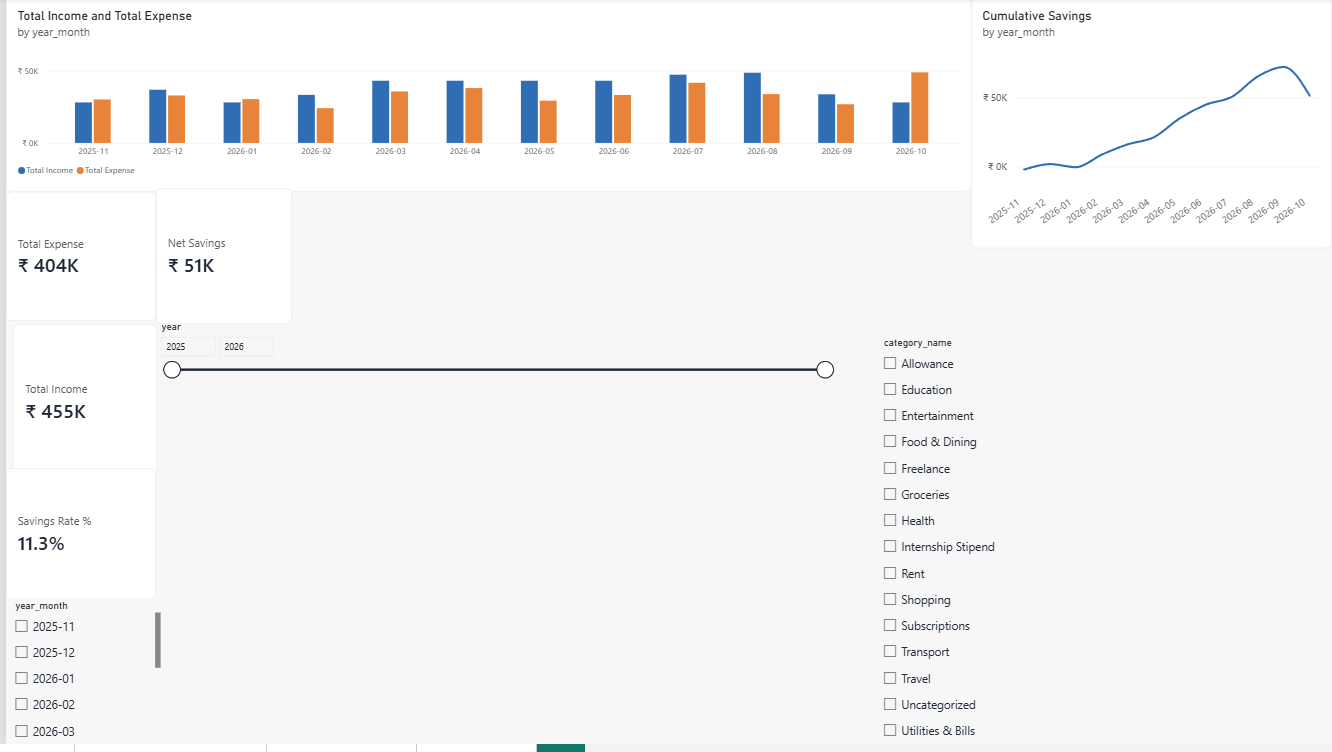

This screenshot's page, from the dashboard's own definition file:
{"tool":"powerbi","page":{"name":"Overview","canvas":[1920,1080],"ordinal":0},"visuals":[{"type":"textbox","box":[10,0,280,280],"z":0},{"type":"cardVisual","fields":{"Data":["Measures (2).Total Expense"]},"box":[0,280,217.5,187.5],"z":1000},{"type":"cardVisual","fields":{"Data":["Measures (2).Total Income"]},"box":[10,472.5,207.5,225],"z":2000},{"type":"cardVisual","fields":{"Data":["Measures (2).Savings Rate %"]},"box":[0,680,217.5,190],"z":3000},{"type":"clusteredColumnChart","fields":{"Category":["Calendar.year_month"],"Y":["Measures (2).Total Income","Measures (2).Total Expense"]},"box":[0,0,1397.5,280],"z":4000},{"type":"lineChart","fields":{"Category":["Calendar.year_month"],"Y":["Measures (2).Cumulative Savings"]},"box":[1397.5,0,522.5,362.5],"z":5000},{"type":"cardVisual","fields":{"Data":["Measures (2).Net Savings"]},"box":[217.5,275,197.5,197.5],"z":6000},{"type":"slicer","fields":{"Values":["Calendar.year"]},"box":[217.5,467.5,985,250],"z":7000},{"type":"slicer","fields":{"Values":["Category.category_name"]},"box":[1262.5,490,657.5,590],"z":8000}]}

Visuals, with their boxes in screenshot pixels (x1, y1, x2, y2), scaled from the page's 1920x1080 canvas onto the 1332x752 screenshot:
textbox: 7/0/201/195
cardVisual - Measures (2).Total Expense: 0/195/151/326
cardVisual - Measures (2).Total Income: 7/329/151/486
cardVisual - Measures (2).Savings Rate %: 0/473/151/606
clusteredColumnChart - Calendar.year_month x Measures (2).Total Income: 0/0/970/195
lineChart - Calendar.year_month x Measures (2).Cumulative Savings: 970/0/1331/252
cardVisual - Measures (2).Net Savings: 151/191/288/329
slicer - Calendar.year: 151/326/834/500
slicer - Category.category_name: 876/341/1331/751
